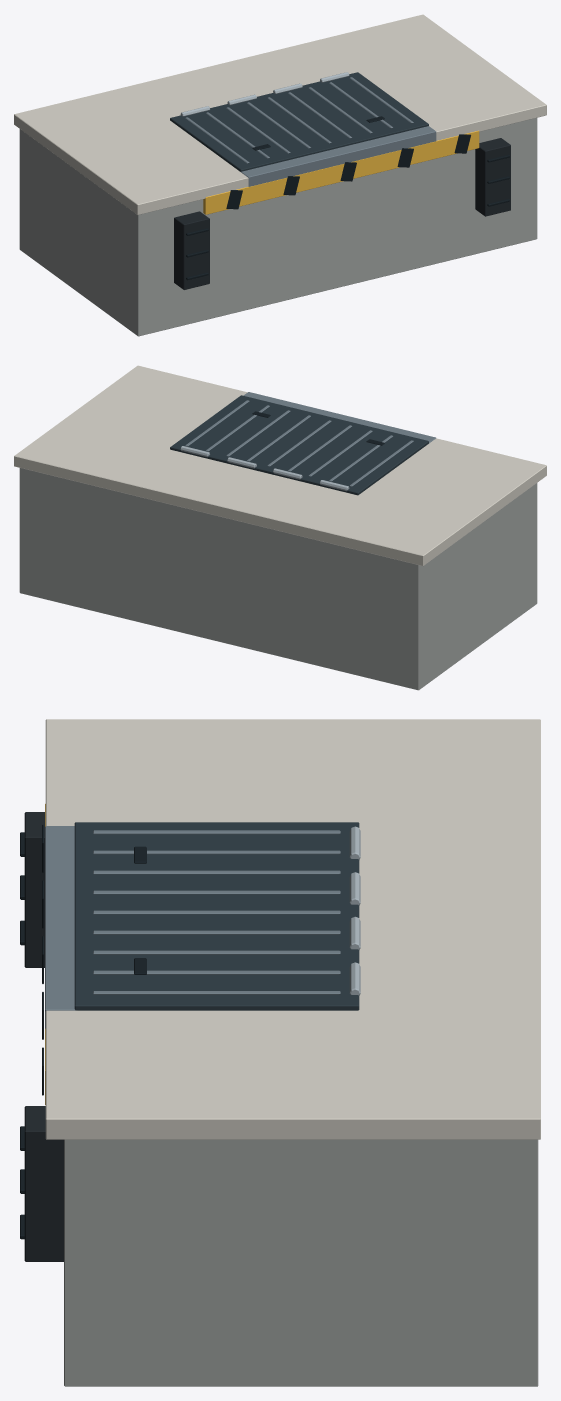
File: b12_raised_loading_dock_platform.glb
The picture shows the model from 3 angles, top to bottom: view 1: azimuth 30°, elevation 25°; view 2: azimuth 150°, elevation 25°; view 3: azimuth 270°, elevation 25°; orthographic projection. The views are drawn at different scales.
Parts seen in each view (by area): view 1: b12_raised_loading_dock_platform; view 2: b12_raised_loading_dock_platform; view 3: b12_raised_loading_dock_platform.
Boxes of the visible parts, box(x1,y1,x2,y2) form: b12_raised_loading_dock_platform: box(14, 14, 546, 336); b12_raised_loading_dock_platform: box(14, 365, 546, 690); b12_raised_loading_dock_platform: box(20, 719, 540, 1386).
Size of the model in its own units: 3.59 by 1.19 by 1.98.
